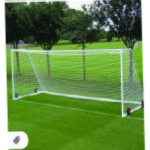goals: (10, 47, 142, 117)
